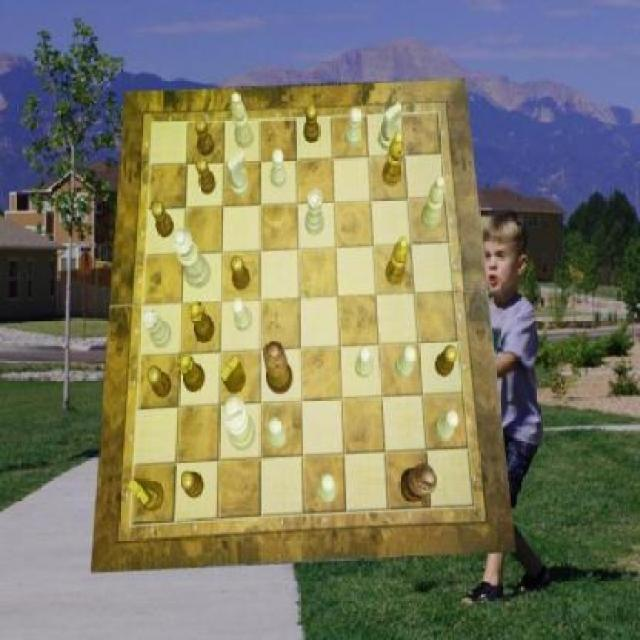bishop: (381, 131, 404, 185), (384, 237, 408, 286)
black-bishop: (399, 463, 436, 502)
black-king: (128, 478, 164, 512), (222, 355, 246, 394)
black-knight: (152, 202, 175, 239), (148, 366, 172, 399), (197, 157, 217, 195), (196, 117, 216, 155), (435, 345, 458, 377), (231, 255, 251, 290), (180, 472, 204, 498), (304, 105, 320, 143)
black-pawn: (263, 342, 293, 396)
black-queen: (179, 354, 206, 394), (191, 301, 215, 344)
black-rook: (420, 175, 445, 230), (232, 92, 255, 148)
white-bishop: (223, 395, 256, 450)
white-king: (378, 103, 402, 151), (226, 151, 249, 198)
white-knight: (436, 411, 460, 443), (396, 344, 416, 378), (232, 298, 252, 332), (344, 108, 360, 148), (271, 149, 287, 188), (355, 344, 373, 378), (268, 417, 287, 449), (319, 474, 336, 503)
white-pawn: (171, 229, 211, 288)
white-queen: (142, 308, 172, 348), (304, 191, 324, 236)
